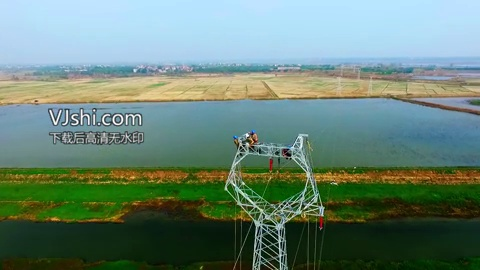tower_up: (221, 126, 324, 270)
